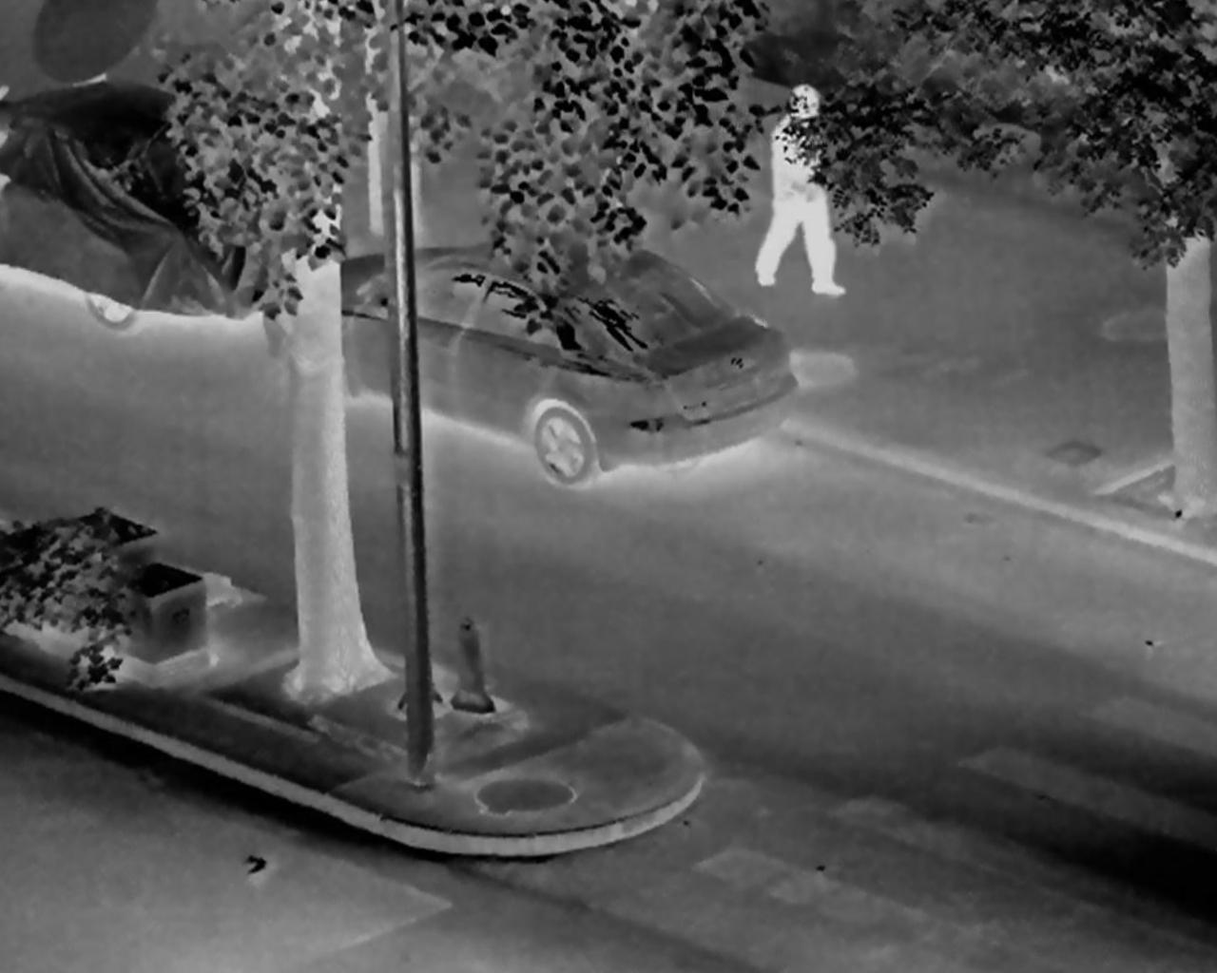person: (753, 85, 847, 298)
